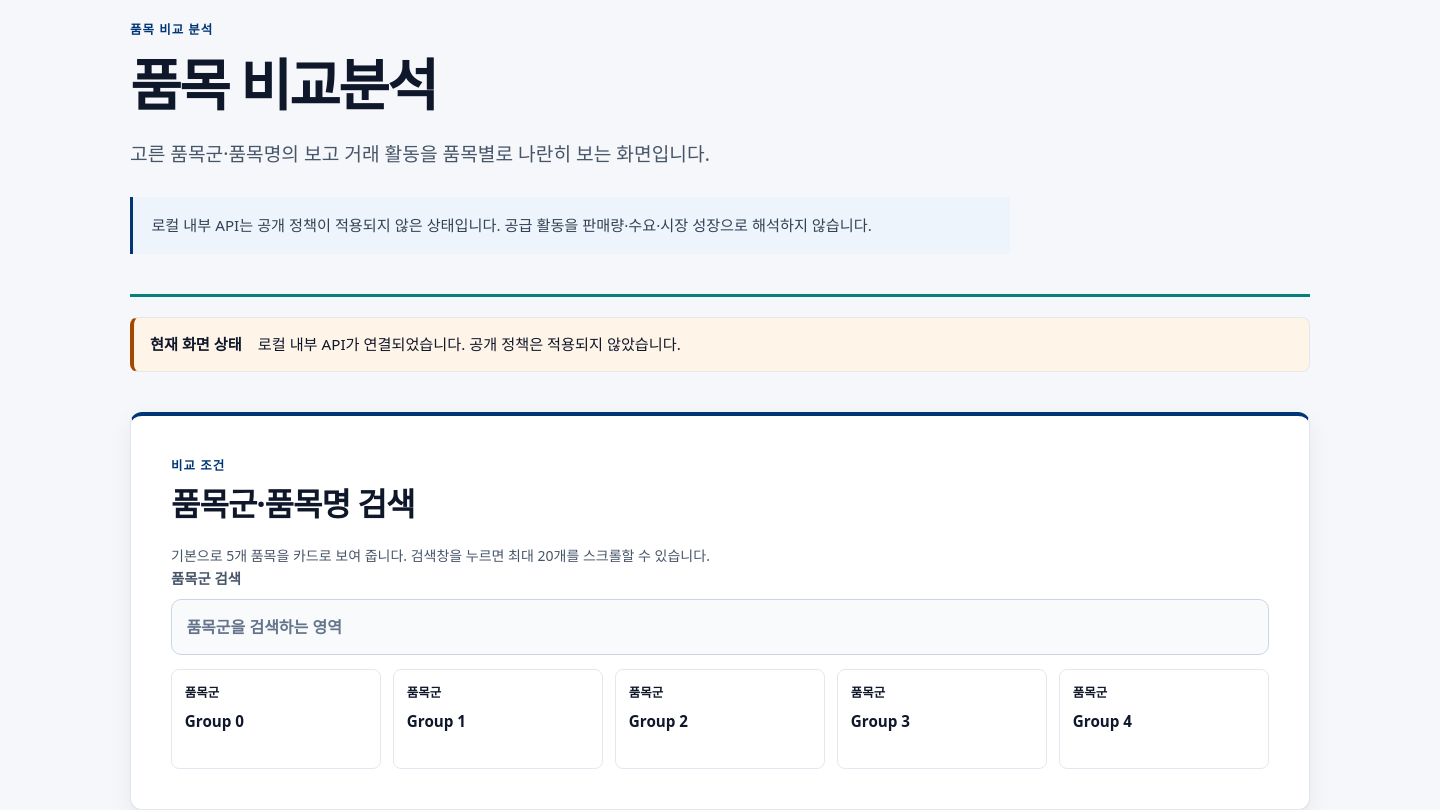
Test: Class 2 API mode UI › renders an explicit empty state from a successful API comparison
The width and height of the screenshot is (1440, 810).
Click the button "품목군 Group 0": (276, 719) [171,669,381,769]
(page scrolled)
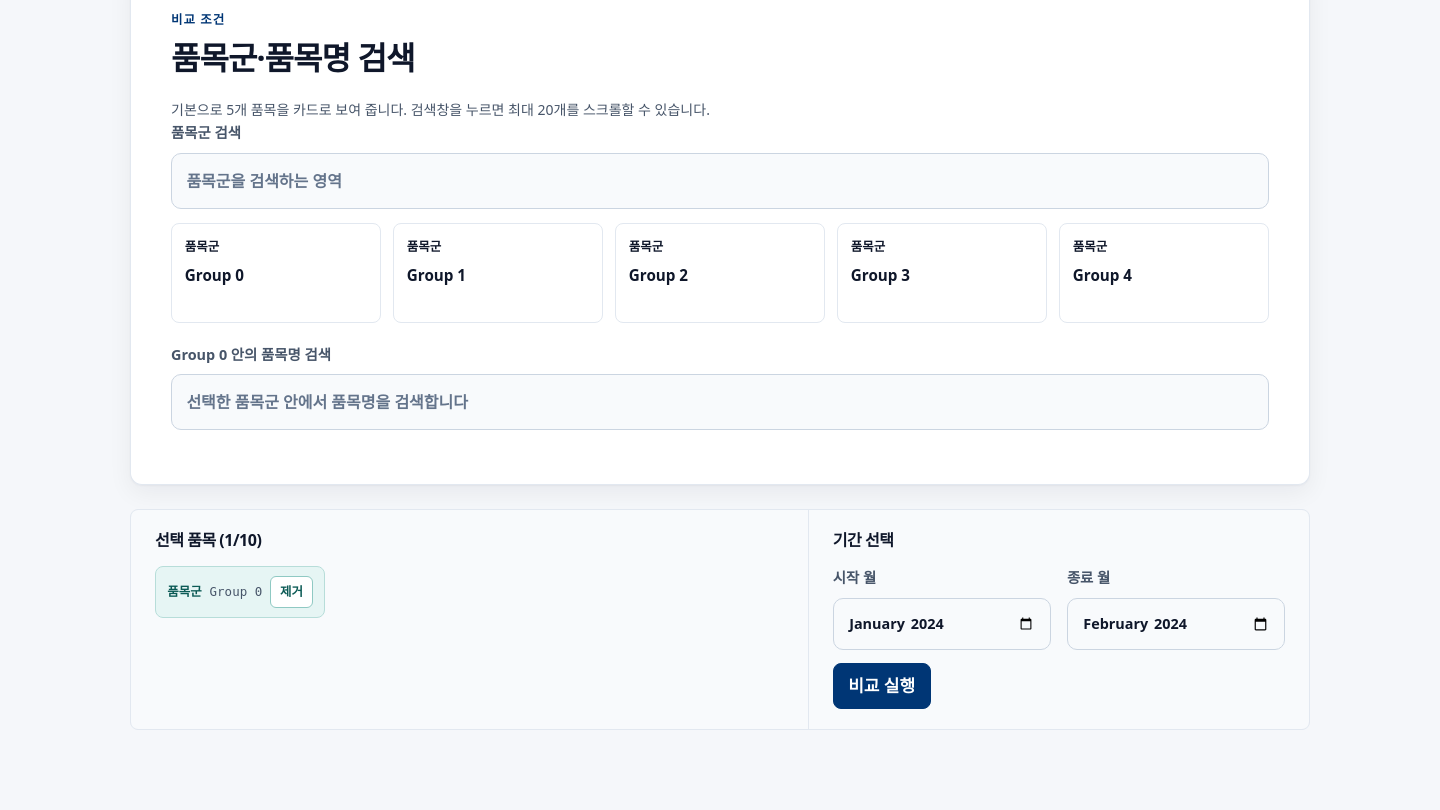
Click the button "비교 실행": (882, 686) [833,663,931,709]
(page scrolled)
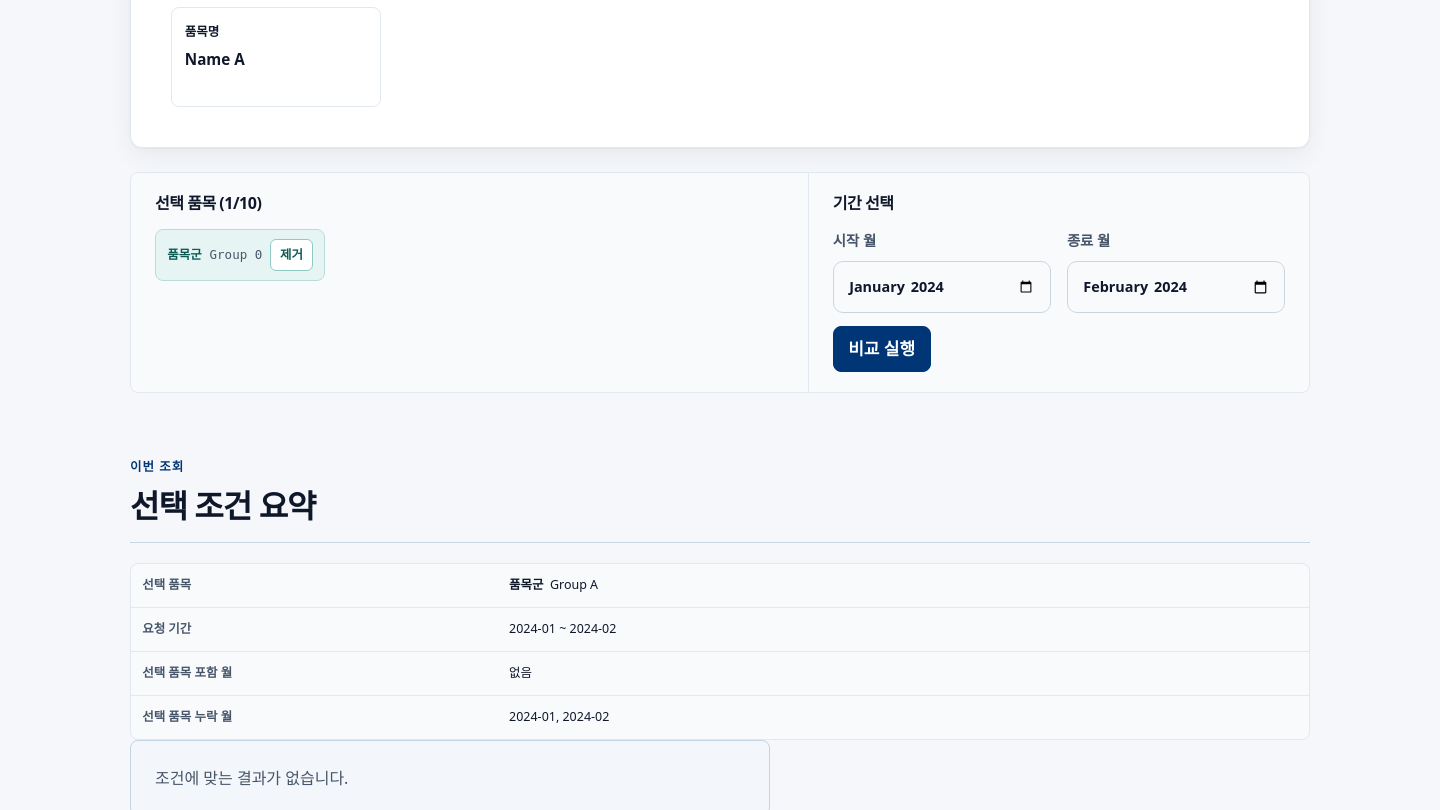
expect the heading "선택 조건 요약" is shown: met, box [130,484,316,527]
